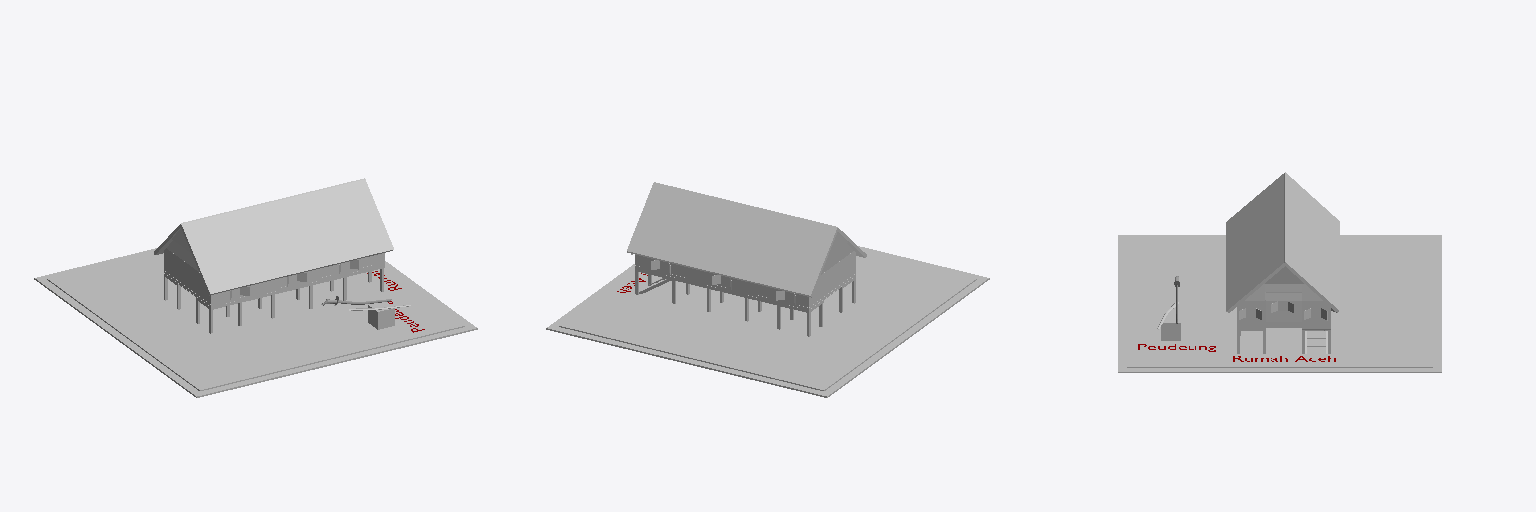
Rendered from RumahAceh.obj.
The picture shows the model from 3 angles: view 1: azimuth 30°, elevation 25°; view 2: azimuth 150°, elevation 25°; view 3: azimuth 270°, elevation 25°; orthographic projection.
Visible parts, largest first — view 1: Plane.047_Plane.002, Plane.003_Plane.004, Plane.046_Plane.001, Plane, Plane.031_Plane.040, Cube; view 2: Plane.047_Plane.002, Plane.004_Plane.005, Plane.046_Plane.001, Plane, Plane.025_Plane.033; view 3: Plane.047_Plane.002, Plane.003_Plane.004, Plane.004_Plane.005, Plane.046_Plane.001, Plane, Plane.087_Plane.092.
Part boxes in pixels (bbox=[...]): Plane.047_Plane.002: bbox=[47, 252, 464, 390]; Plane.003_Plane.004: bbox=[181, 179, 393, 295]; Plane.046_Plane.001: bbox=[34, 248, 477, 397]; Plane: bbox=[164, 240, 384, 306]; Plane.031_Plane.040: bbox=[196, 268, 383, 333]; Cube: bbox=[368, 302, 394, 329]; Plane.047_Plane.002: bbox=[559, 250, 976, 390]; Plane.004_Plane.005: bbox=[627, 182, 838, 297]; Plane.046_Plane.001: bbox=[546, 246, 989, 397]; Plane: bbox=[635, 243, 855, 309]; Plane.025_Plane.033: bbox=[635, 271, 822, 336]; Plane.047_Plane.002: bbox=[1127, 237, 1432, 367]; Plane.003_Plane.004: bbox=[1226, 174, 1285, 312]; Plane.004_Plane.005: bbox=[1284, 172, 1339, 312]; Plane.046_Plane.001: bbox=[1118, 235, 1441, 372]; Plane: bbox=[1237, 284, 1330, 327]; Plane.087_Plane.092: bbox=[1266, 293, 1301, 321].
Size of the model in its own units: 15.84 by 5.25 by 15.84.